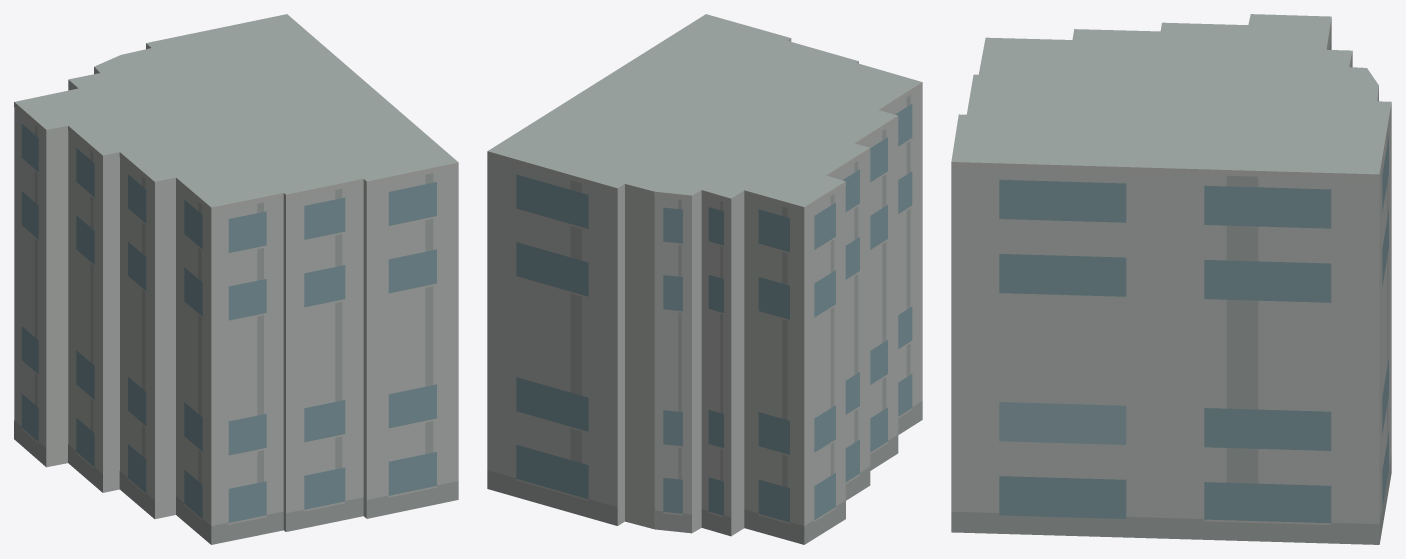
The model's file is survey-upis-32789180.glb.
3 renders of one model, left to right at view 1: azimuth 30°, elevation 25°; view 2: azimuth 150°, elevation 25°; view 3: azimuth 270°, elevation 25°, orthographic. The views are drawn at different scales.
Parts seen in each view (by area): view 1: survey-upis-32789180.tmp; view 2: survey-upis-32789180.tmp; view 3: survey-upis-32789180.tmp.
Part boxes in pixels (<box>): survey-upis-32789180.tmp: <box>14,14,458,544</box>; survey-upis-32789180.tmp: <box>487,14,922,544</box>; survey-upis-32789180.tmp: <box>951,14,1391,544</box>.
Bounding box in the file's own units: 14.45 × 15.55 × 16.76.
